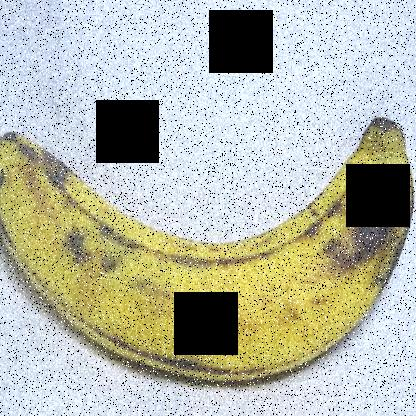ripe: (1, 111, 415, 402)
